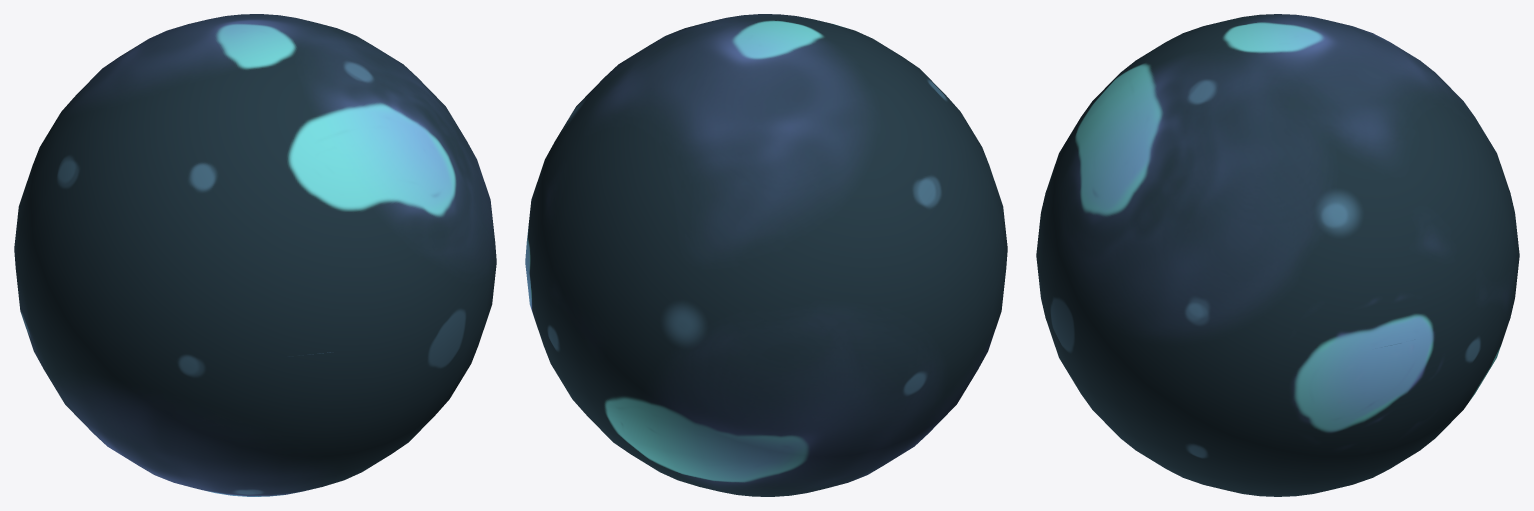
File: planet1.obj
3 views of the same model, side by side, from view 1: azimuth 30°, elevation 25°; view 2: azimuth 150°, elevation 25°; view 3: azimuth 270°, elevation 25° (orthographic).
Parts seen in each view (by area): view 1: Sphere.006_Sphere.002; view 2: Sphere.006_Sphere.002; view 3: Sphere.006_Sphere.002.
Boxes of the visible parts, <box> form: Sphere.006_Sphere.002: <box>14,14,496,496</box>; Sphere.006_Sphere.002: <box>525,14,1007,496</box>; Sphere.006_Sphere.002: <box>1036,14,1519,496</box>.
Bounding box in the file's own units: 6.75 × 6.75 × 6.75.
